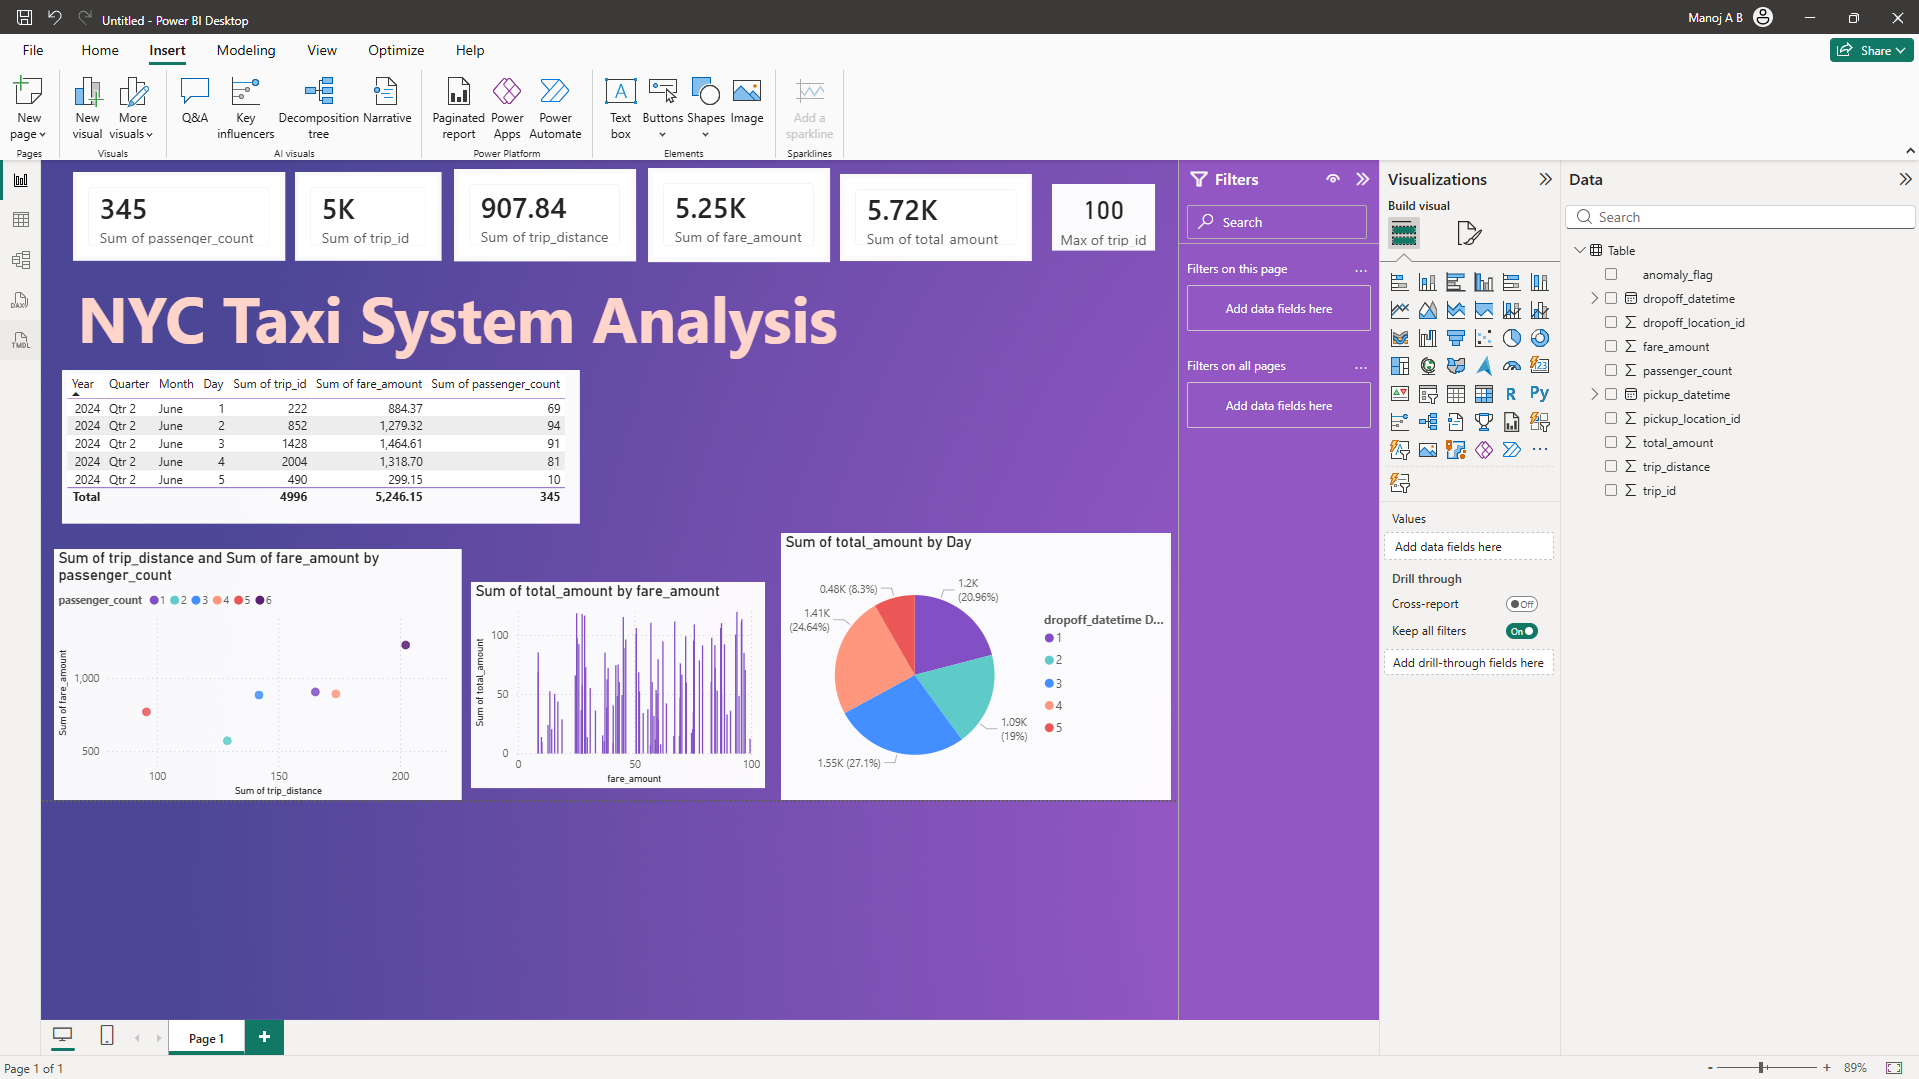

This screenshot's page, from the dashboard's own definition file:
{"tool":"powerbi","page":{"name":"Page 1","canvas":[1280,720],"ordinal":0},"visuals":[{"type":"pieChart","fields":{"Category":["Table.dropoff_datetime.Variation.Date Hierarchy.Day","Table.pickup_location_id","Table.passenger_count"],"Y":["Sum(Table.total_amount)"]},"box":[833.1,419.9,439.1,300.6],"z":0},{"type":"scatterChart","fields":{"X":["Sum(Table.trip_distance)"],"Y":["Sum(Table.fare_amount)"],"Series":["Table.passenger_count"]},"box":[14.6,437.9,459.3,282.6],"z":1000},{"type":"cardVisual","fields":{"Data":["Sum(Table.trip_id)"]},"box":[285.9,13.5,165.5,100.2],"z":2000},{"type":"cardVisual","fields":{"Data":["Sum(Table.total_amount)"]},"box":[899.5,15.8,216.1,97.9],"z":3000},{"type":"cardVisual","fields":{"Data":["Sum(Table.passenger_count)"]},"box":[36,13.5,238.7,100.2],"z":4000},{"type":"cardVisual","fields":{"Data":["Sum(Table.fare_amount)"]},"box":[683.3,9,204.9,105.8],"z":5000},{"type":"cardVisual","fields":{"Data":["Sum(Table.trip_distance)"]},"box":[464.9,10.1,204.9,103.6],"z":6000},{"type":"card","fields":{"Values":["Max(Table.trip_id)"]},"box":[1138.2,27,116,75.4],"z":7000},{"type":"tableEx","fields":{"Values":["Table.dropoff_datetime.Variation.Date Hierarchy.Year","Table.dropoff_datetime.Variation.Date Hierarchy.Quarter","Table.dropoff_datetime.Variation.Date Hierarchy.Month","Table.dropoff_datetime.Variation.Date Hierarchy.Day","Sum(Table.trip_id)","Sum(Table.fare_amount)","Sum(Table.passenger_count)"]},"box":[23.6,236.4,583.1,173.4],"z":8000},{"type":"columnChart","fields":{"Category":["Table.fare_amount"],"Y":["Sum(Table.total_amount)"]},"box":[484.1,475.1,331,231.9],"z":9000},{"type":"textbox","box":[36,122.7,1244,219.5],"z":10000}]}

Visuals, with their boxes on the page's 1280x720 design canvas (x1, y1, x2, y2). These are canvas units, not pixel positions in the 1919x1079 screenshot, which may show the page scaled, cropped or inside an application window:
pieChart - Table.dropoff_datetime.Variation.Date Hierarchy.Day x Table.pickup_location_id: crop(833, 420, 1272, 720)
scatterChart - Sum(Table.trip_distance) x Sum(Table.fare_amount): crop(15, 438, 474, 720)
cardVisual - Sum(Table.trip_id): crop(286, 14, 451, 114)
cardVisual - Sum(Table.total_amount): crop(900, 16, 1116, 114)
cardVisual - Sum(Table.passenger_count): crop(36, 14, 275, 114)
cardVisual - Sum(Table.fare_amount): crop(683, 9, 888, 115)
cardVisual - Sum(Table.trip_distance): crop(465, 10, 670, 114)
card - Max(Table.trip_id): crop(1138, 27, 1254, 102)
tableEx - Table.dropoff_datetime.Variation.Date Hierarchy.Year x Table.dropoff_datetime.Variation.Date Hierarchy.Quarter: crop(24, 236, 607, 410)
columnChart - Table.fare_amount x Sum(Table.total_amount): crop(484, 475, 815, 707)
textbox: crop(36, 123, 1280, 342)
